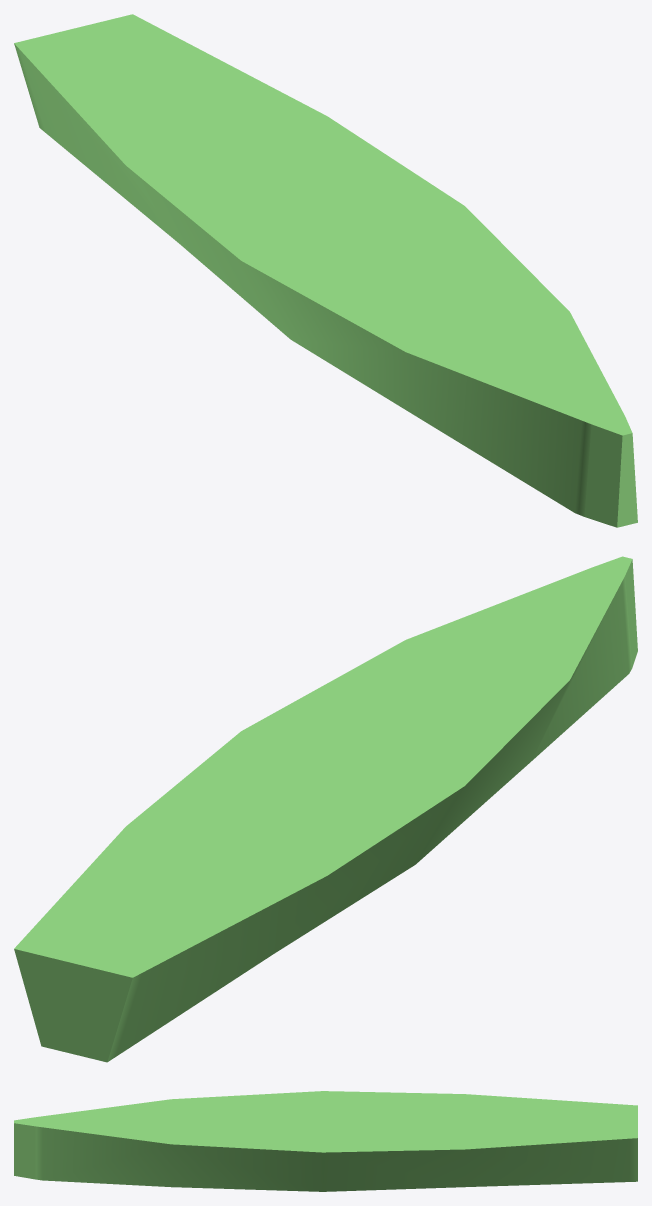
3 views of the same model, one above another, from view 1: azimuth 30°, elevation 25°; view 2: azimuth 150°, elevation 25°; view 3: azimuth 270°, elevation 25° (orthographic). The views are drawn at different scales.
Visible parts, largest first — view 1: polySurface4; view 2: polySurface4; view 3: polySurface4.
Part boxes in pixels (<box>): polySurface4: <box>14,14,637,527</box>; polySurface4: <box>14,556,637,1062</box>; polySurface4: <box>14,1091,637,1191</box>.
Bounding box in the file's own units: 5.13 × 1.99 × 21.99.
